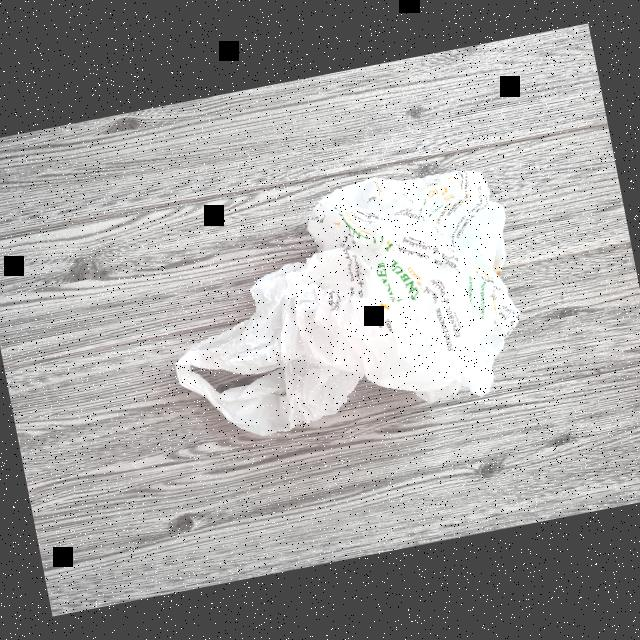plastic_bag: (122, 131, 558, 485)
